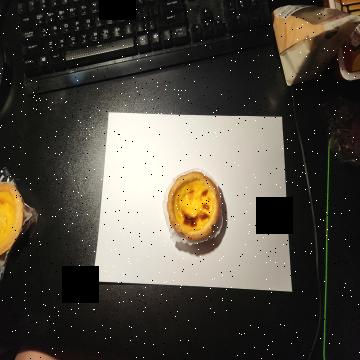EggTart: (168, 170, 222, 241)
